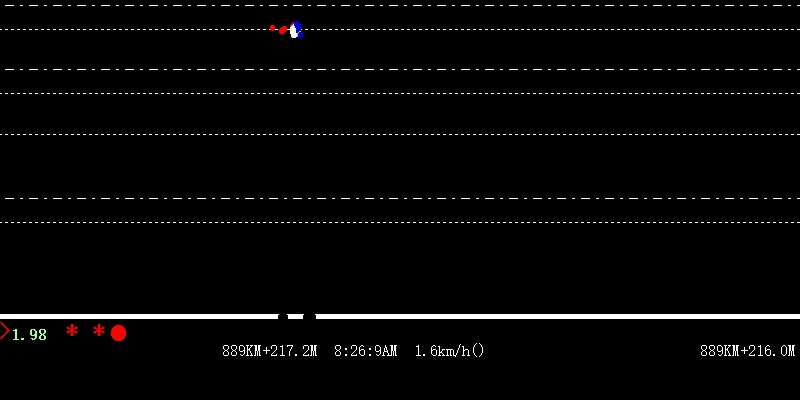circle: (107, 322, 128, 344)
face_1: (279, 21, 287, 37)
face_2: (287, 17, 303, 42)
star: (63, 320, 79, 338), (92, 321, 107, 337)
